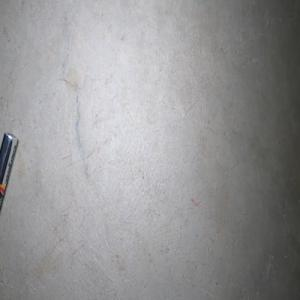Battery: (0, 131, 18, 211)
